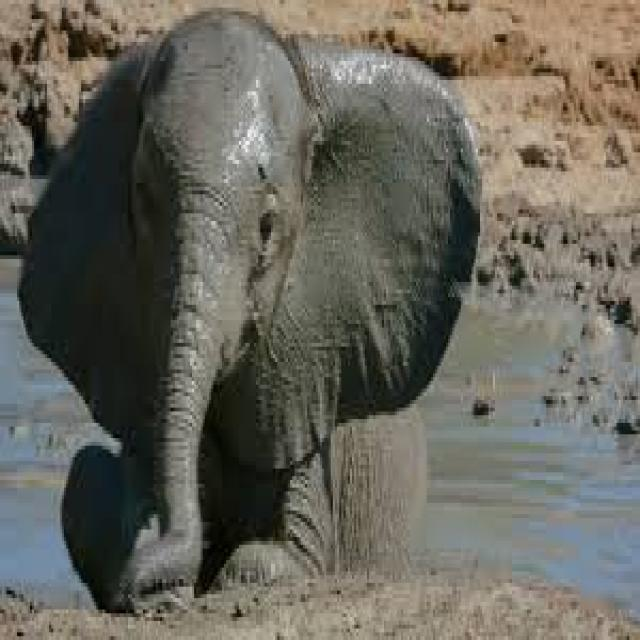Elephant: (15, 4, 482, 606)
